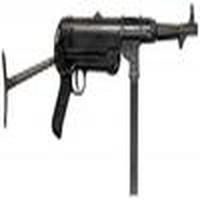gun: (1, 12, 200, 140)
